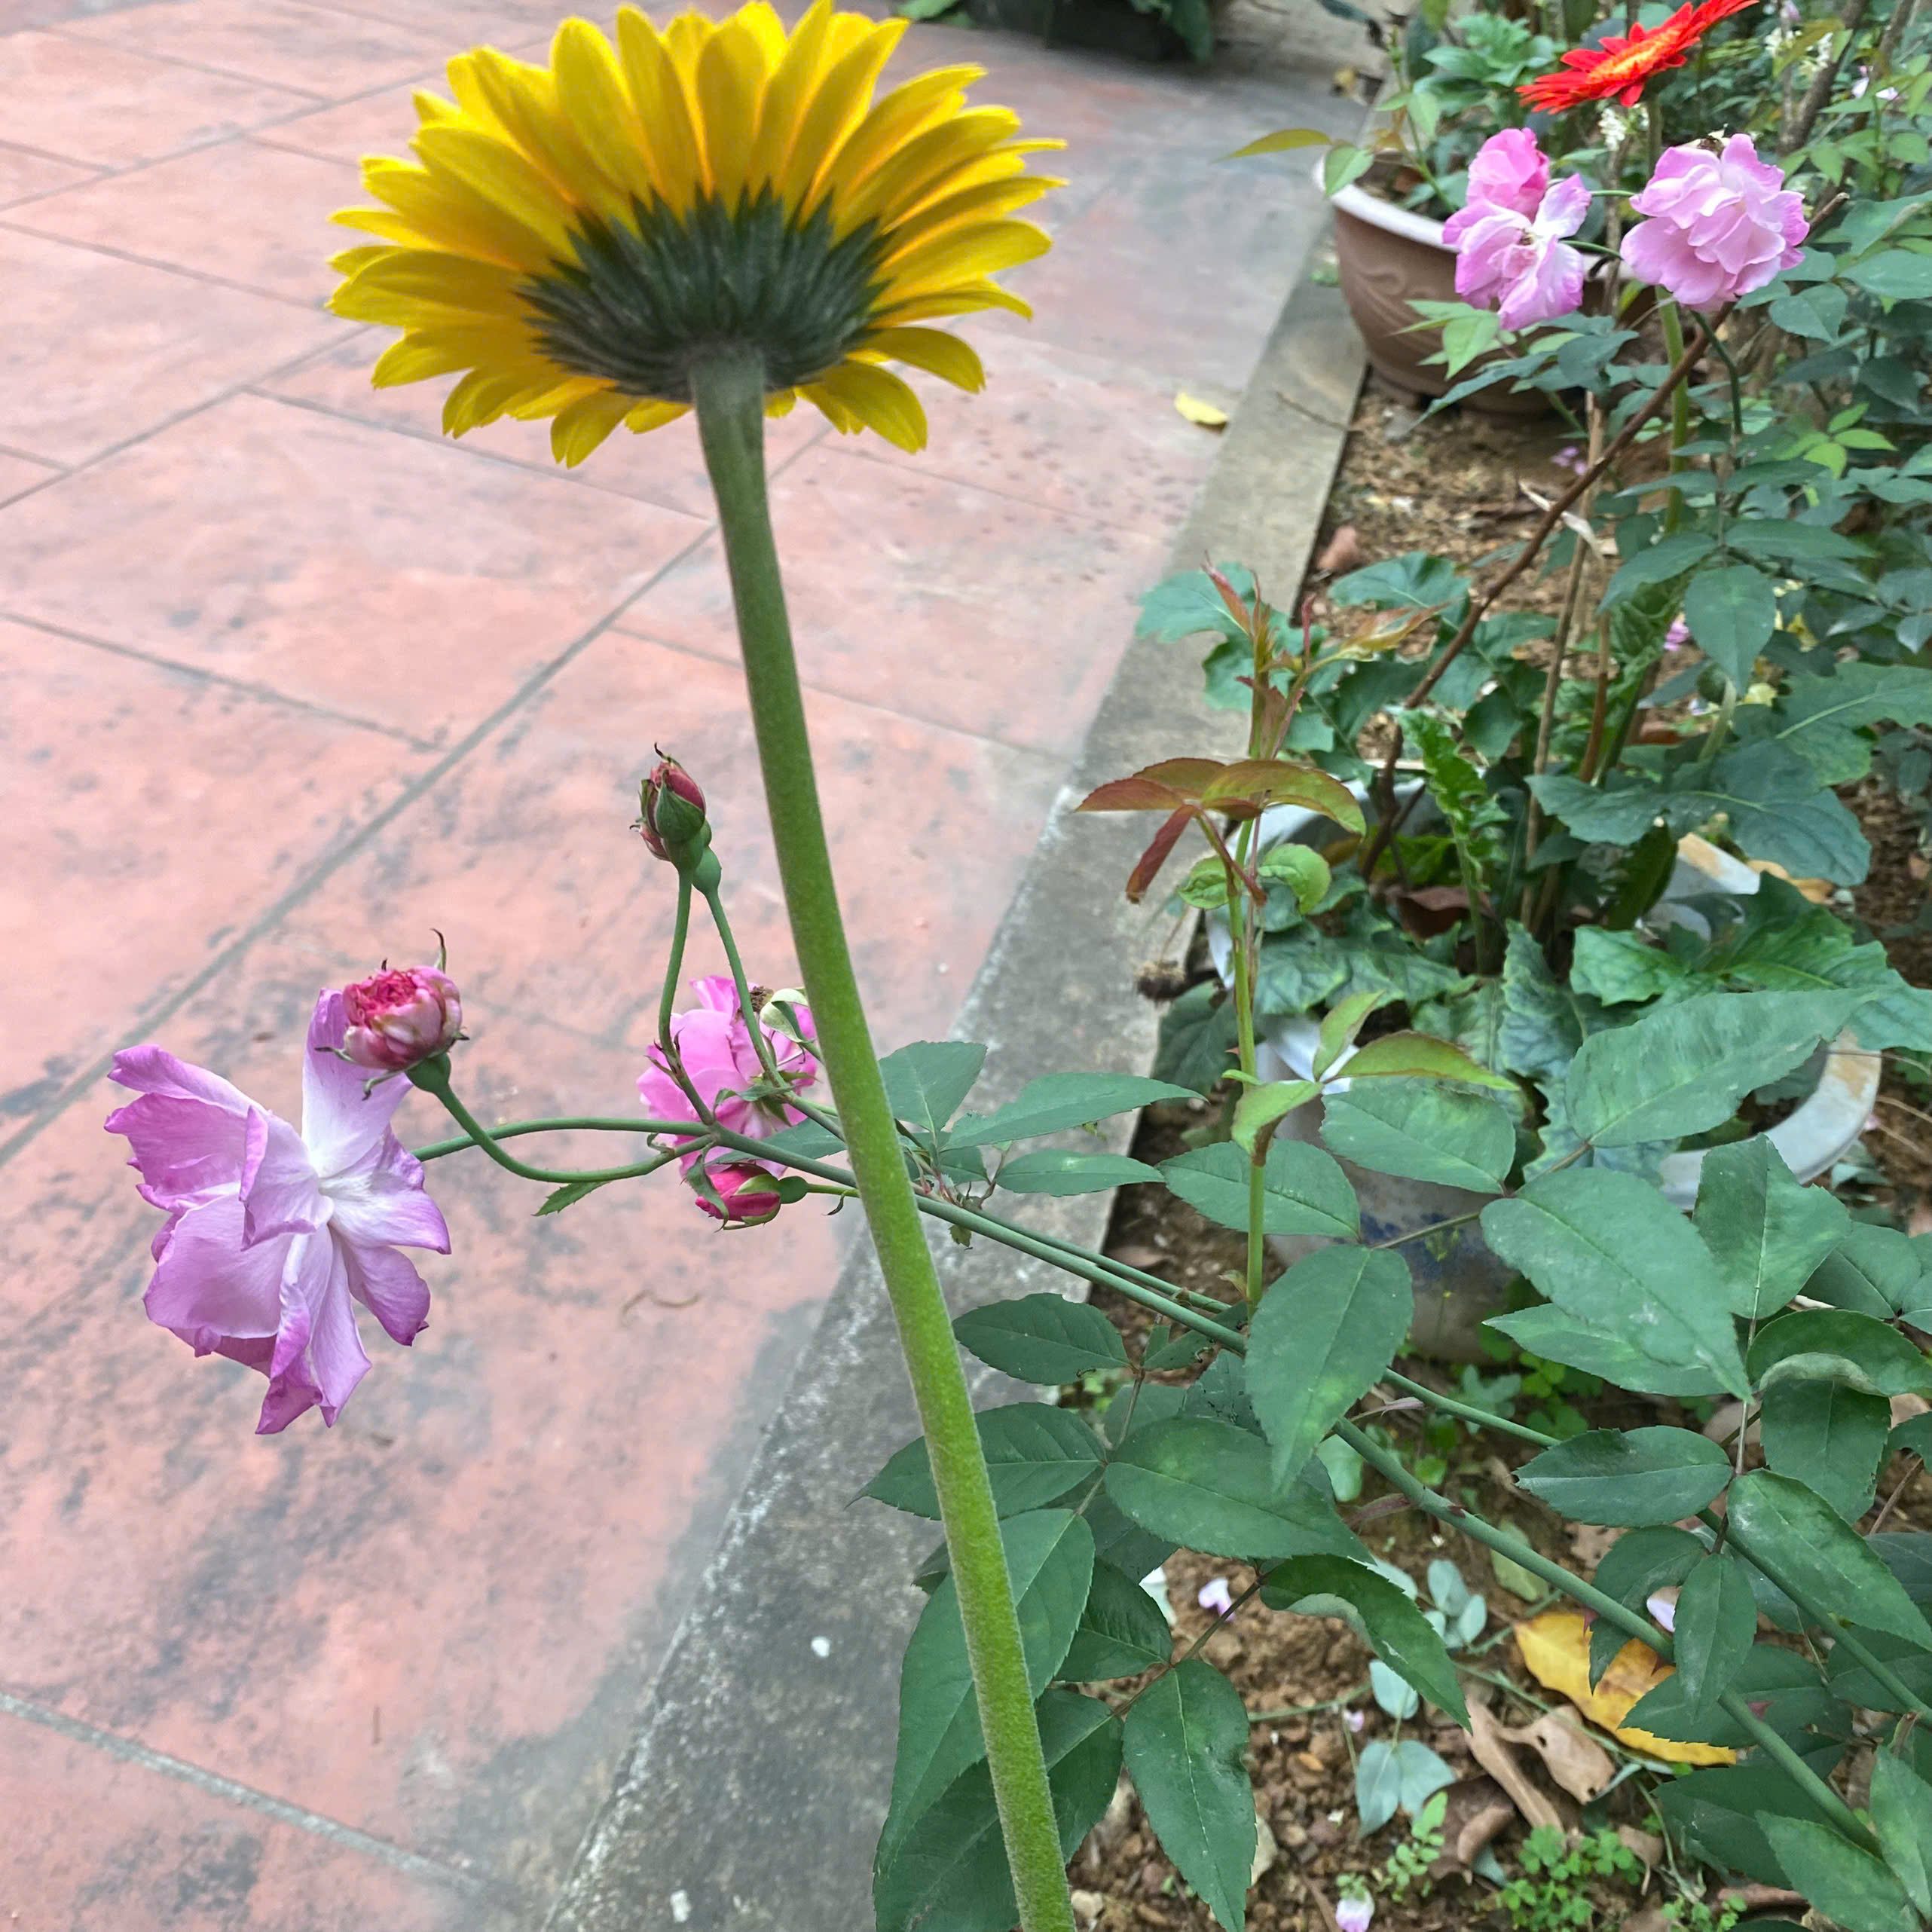hoa_huong_duong: (308, 0, 1178, 1849)
